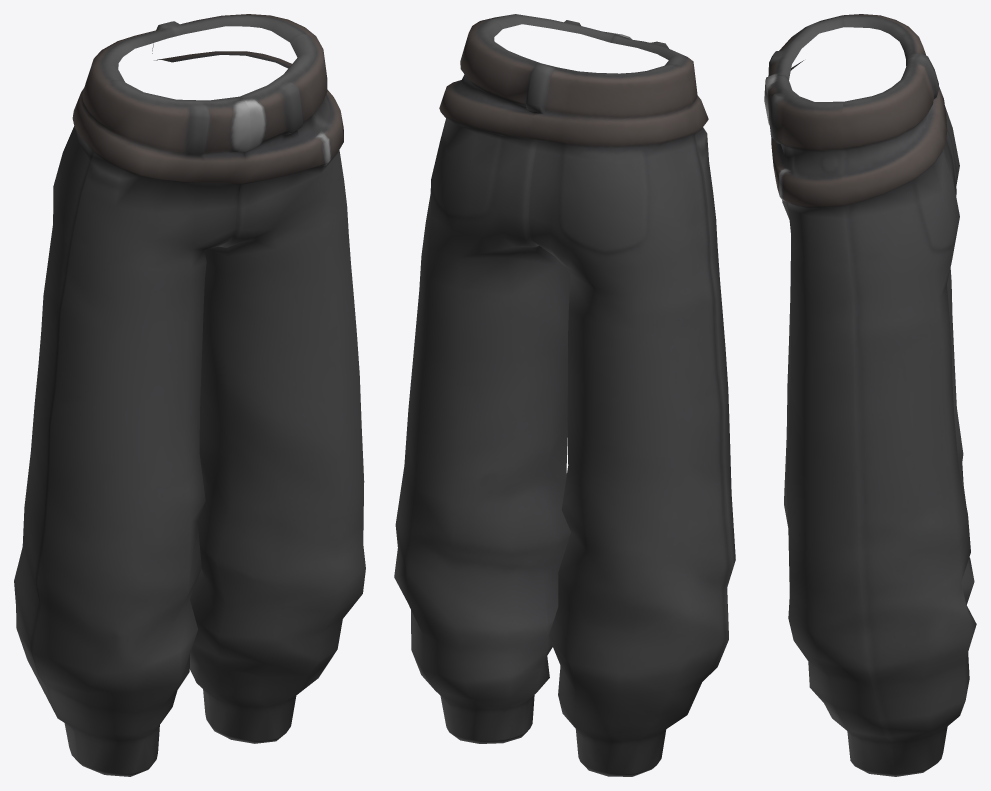
The model's file is Model_Joggers.glb.
3 views of the same model, side by side, from view 1: azimuth 30°, elevation 25°; view 2: azimuth 150°, elevation 25°; view 3: azimuth 270°, elevation 25° (orthographic). The views are drawn at different scales.
Parts seen in each view (by area): view 1: Joggers; view 2: Joggers; view 3: Joggers.
Boxes of the visible parts, <box> form: Joggers: <box>14,14,365,776</box>; Joggers: <box>394,14,735,776</box>; Joggers: <box>764,14,976,776</box>.
Bounding box in the file's own units: 0.3516 × 0.7362 × 0.2096.
1 material, 1 textured.
